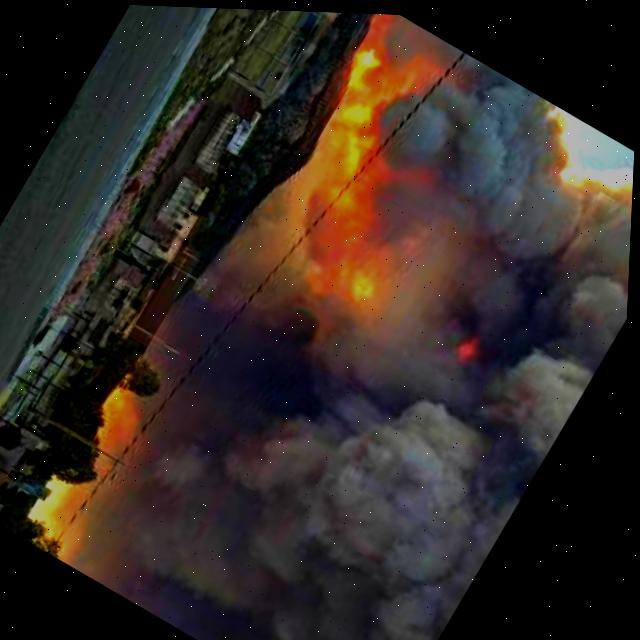Fire: (273, 10, 435, 210), (300, 187, 419, 321)
Smoke: (51, 2, 640, 640)
